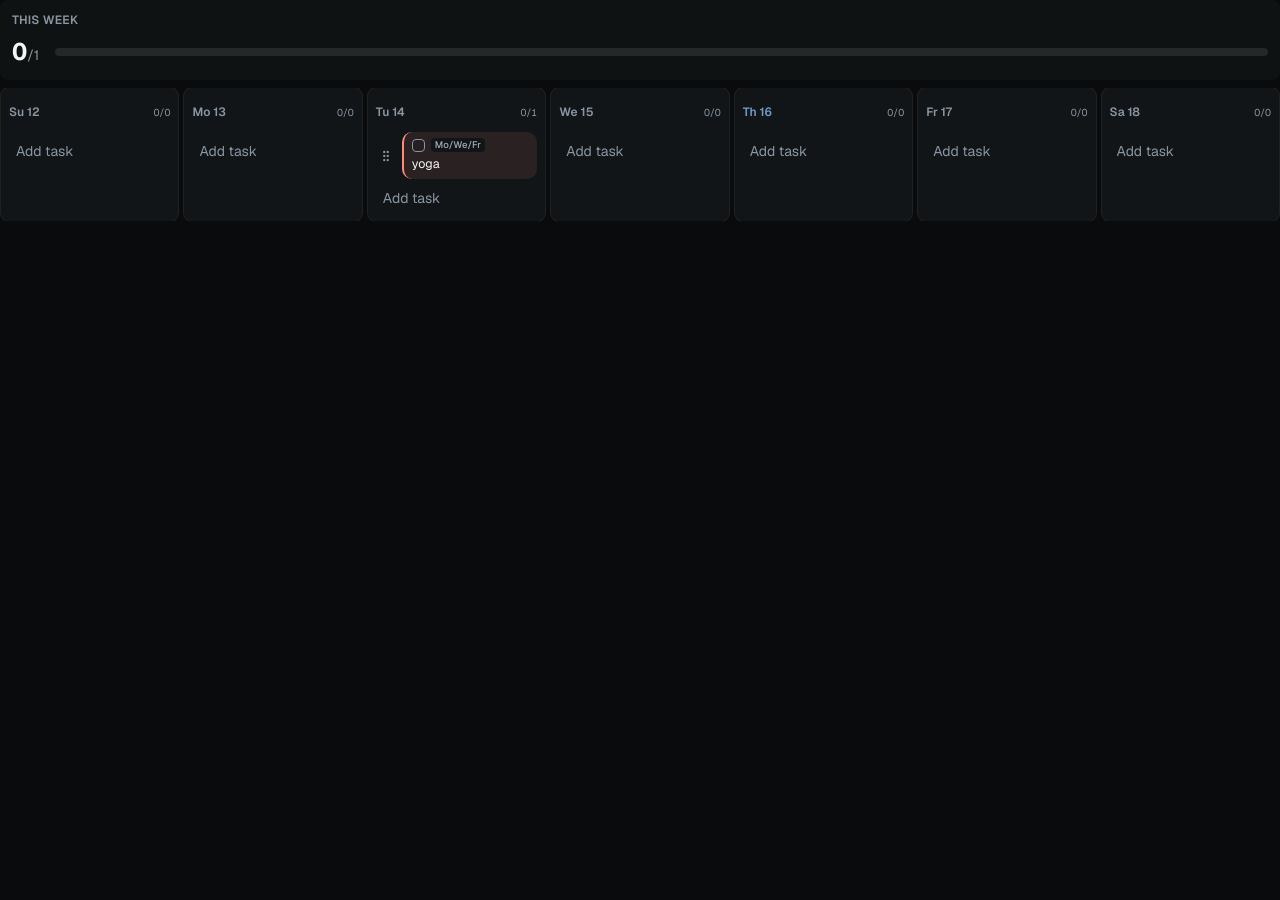
Scenario: WeeklyView › shows the anchor's upcoming repeat dates in the detail panel
Click the button "yoga" at (470, 165), box [412, 156, 529, 173]
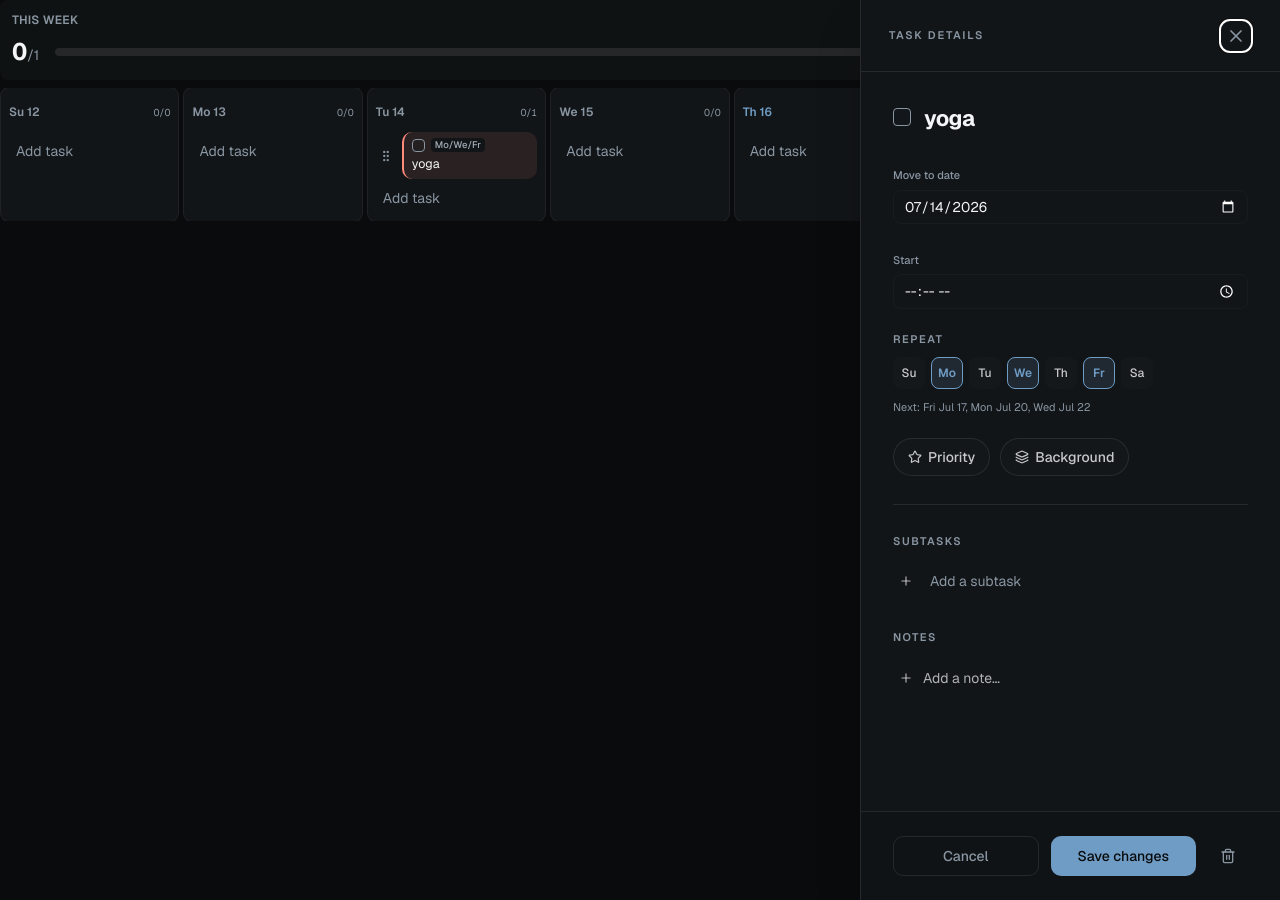
Check: the button named "Close details" is shown, box [1220, 20, 1252, 52]
Check: the text "Next: Fri Jul 17, Mon Jul 20, Wed Jul 22" is shown, box [893, 400, 1090, 414]
